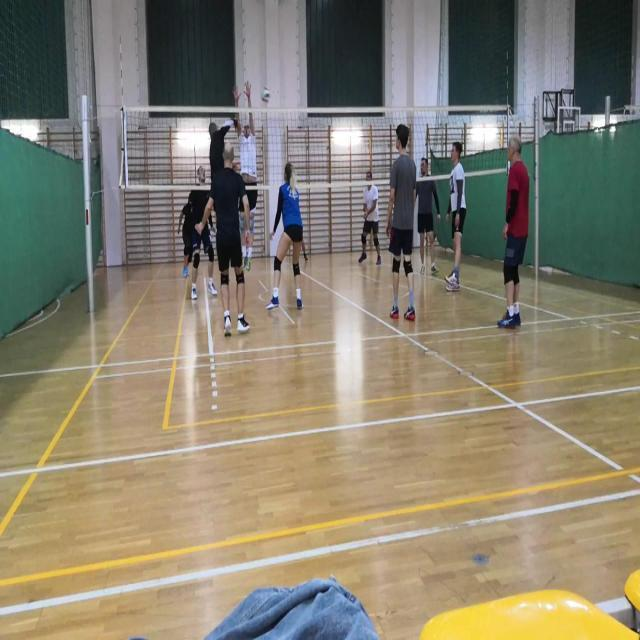volleyball: (261, 86, 270, 102)
